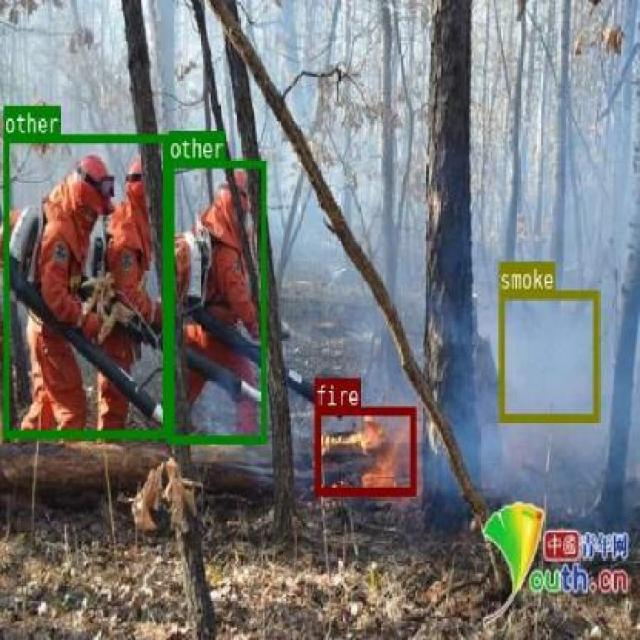fire: (313, 405, 415, 493)
smoke: (498, 289, 597, 420)
